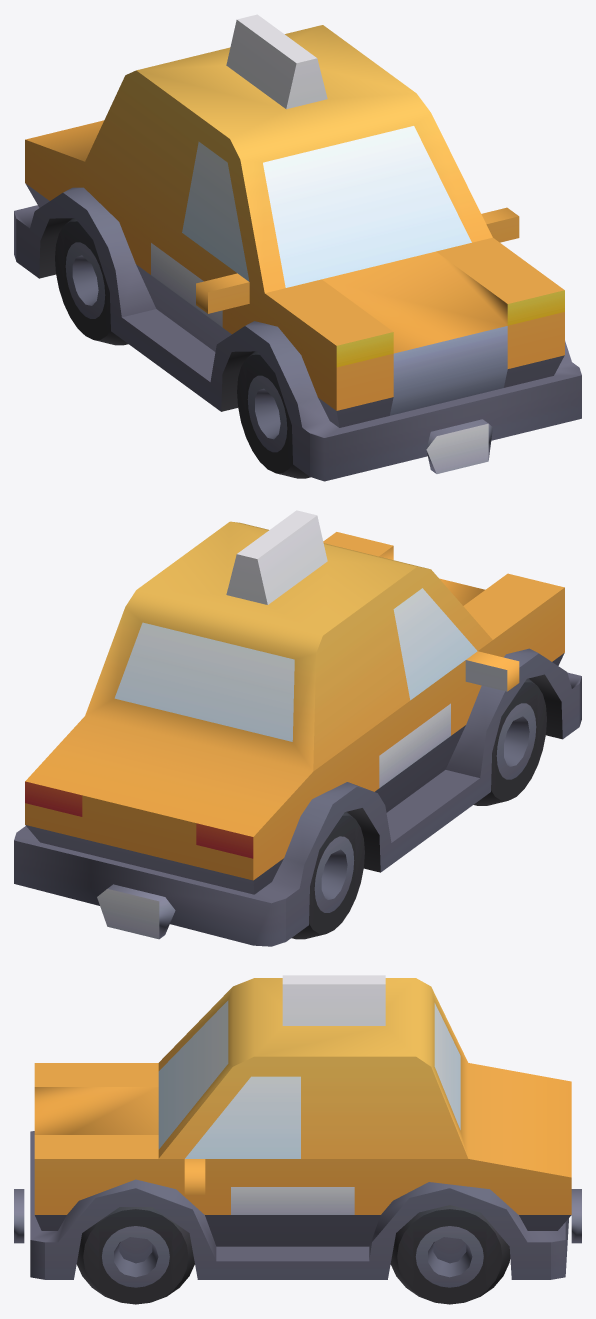
File: 039_car-kit_taxi_card.glb
3 renders of one model, top to bottom at view 1: azimuth 30°, elevation 25°; view 2: azimuth 150°, elevation 25°; view 3: azimuth 270°, elevation 25°, orthographic. The views are drawn at different scales.
Parts seen in each view (by area): view 1: body, wheel-front-right, wheel-back-right; view 2: body, wheel-back-right, wheel-front-right; view 3: body, wheel-back-left, wheel-front-left.
Boxes of the visible parts, bbox=[...] form: body: bbox=[14, 14, 581, 481]; wheel-front-right: bbox=[237, 351, 310, 478]; wheel-back-right: bbox=[55, 218, 128, 345]; body: bbox=[14, 510, 581, 946]; wheel-back-right: bbox=[291, 811, 364, 939]; wheel-front-right: bbox=[473, 678, 546, 805]; body: bbox=[14, 975, 581, 1279]; wheel-back-left: bbox=[390, 1205, 510, 1304]; wheel-front-left: bbox=[76, 1207, 194, 1304].
Bounding box in the file's own units: 1.5 × 1.5 × 2.75.
1 material, 1 textured.
